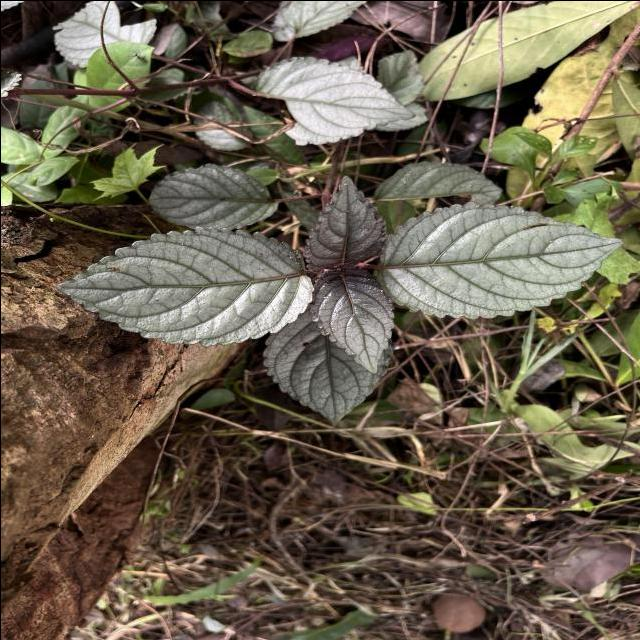Hemigraphis colorata: (52, 223, 317, 348), (374, 197, 626, 322), (259, 310, 396, 428), (306, 264, 396, 376), (145, 160, 279, 233), (300, 172, 392, 272)
